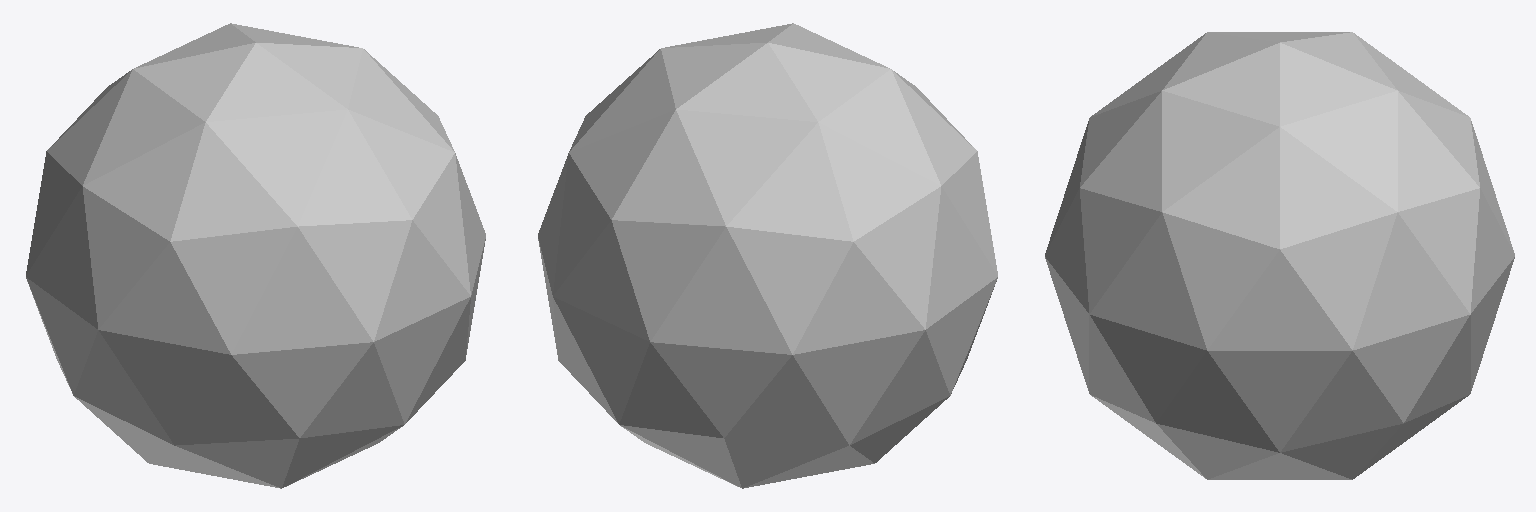
The model's file is golfBall.obj.
The picture shows the model from 3 angles: view 1: azimuth 30°, elevation 25°; view 2: azimuth 150°, elevation 25°; view 3: azimuth 270°, elevation 25°; orthographic projection.
Visible parts, largest first — view 1: ball_ico_low; view 2: ball_ico_low; view 3: ball_ico_low.
Part boxes in pixels (left/top/right/bottom): ball_ico_low: left=26, top=23, right=485, bottom=488; ball_ico_low: left=538, top=23, right=997, bottom=488; ball_ico_low: left=1045, top=32, right=1514, bottom=479.
Size of the model in its own units: 0.0416 by 0.0437 by 0.0437.